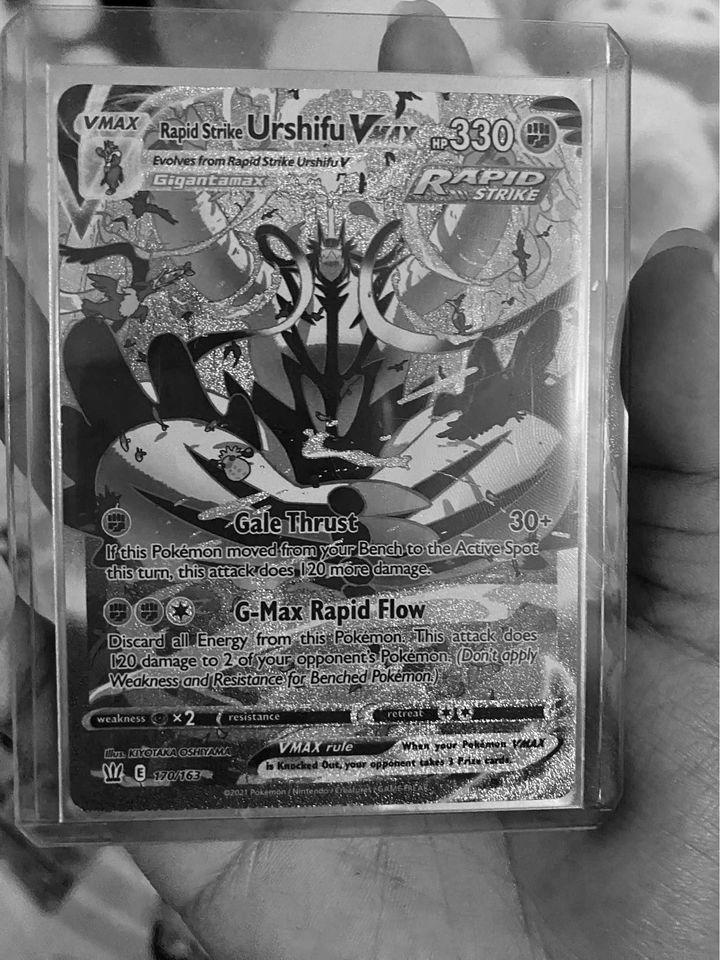card: (54, 82, 585, 814)
